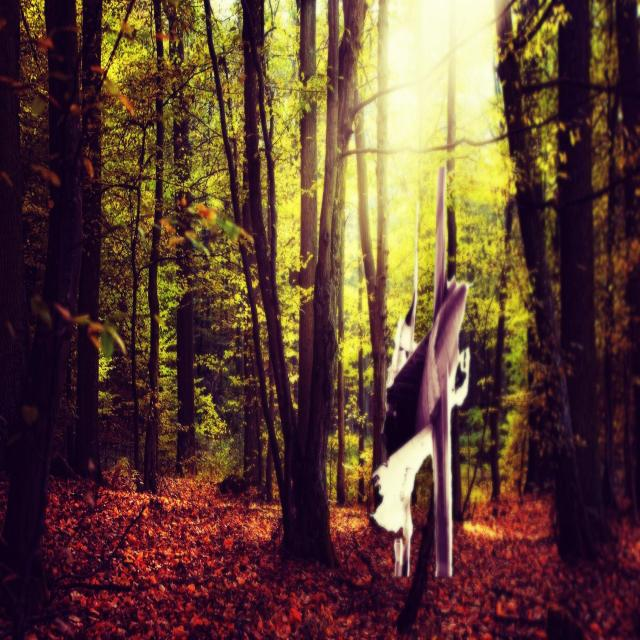airplane: (368, 164, 472, 580)
